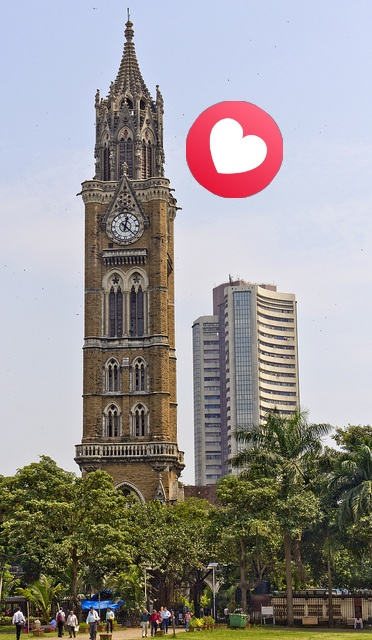love: (186, 101, 283, 198)
